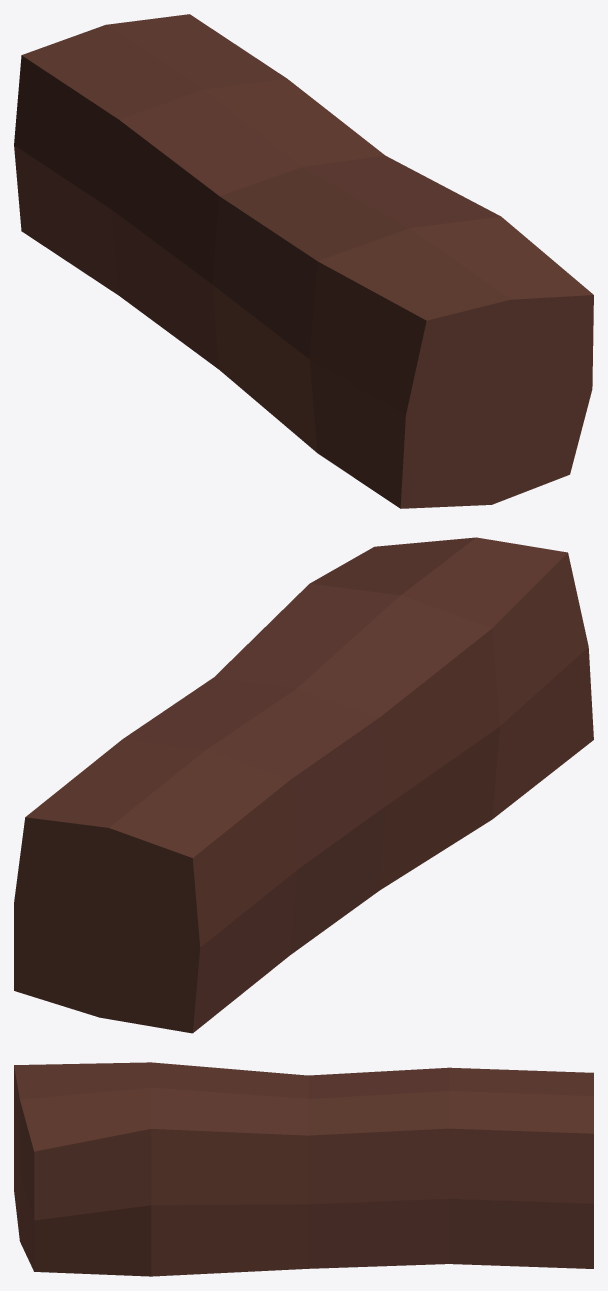
File: WoodHorizontalPost4x4002.fbx
3 renders of one model, top to bottom at view 1: azimuth 30°, elevation 25°; view 2: azimuth 150°, elevation 25°; view 3: azimuth 270°, elevation 25°, orthographic. The views are drawn at different scales.
Visible parts, largest first — view 1: WoodHorizontalPost4x4002; view 2: WoodHorizontalPost4x4002; view 3: WoodHorizontalPost4x4002.
Part boxes in pixels (left/top/right/bottom): WoodHorizontalPost4x4002: left=14, top=14, right=593, bottom=508; WoodHorizontalPost4x4002: left=14, top=537, right=593, bottom=1033; WoodHorizontalPost4x4002: left=14, top=1062, right=593, bottom=1276.
Bounding box in the file's own units: 61.5 × 59.72 × 201.
